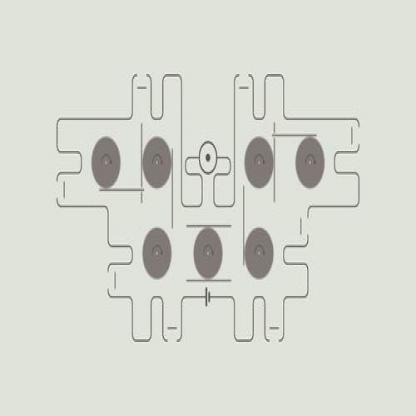FOD: (90, 132, 122, 188)
